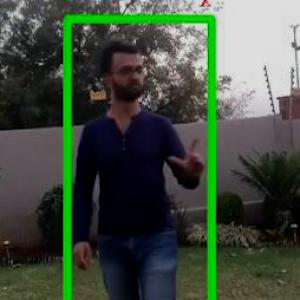land_hand: (169, 128, 212, 194)
